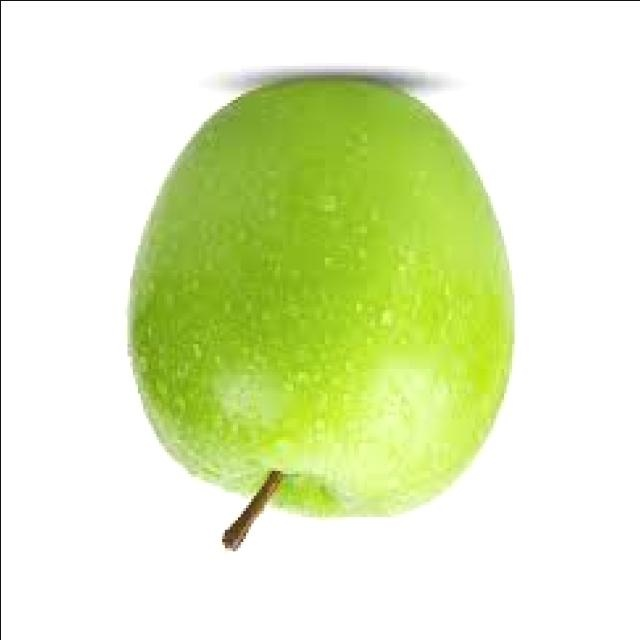agrume: (66, 53, 550, 547)
